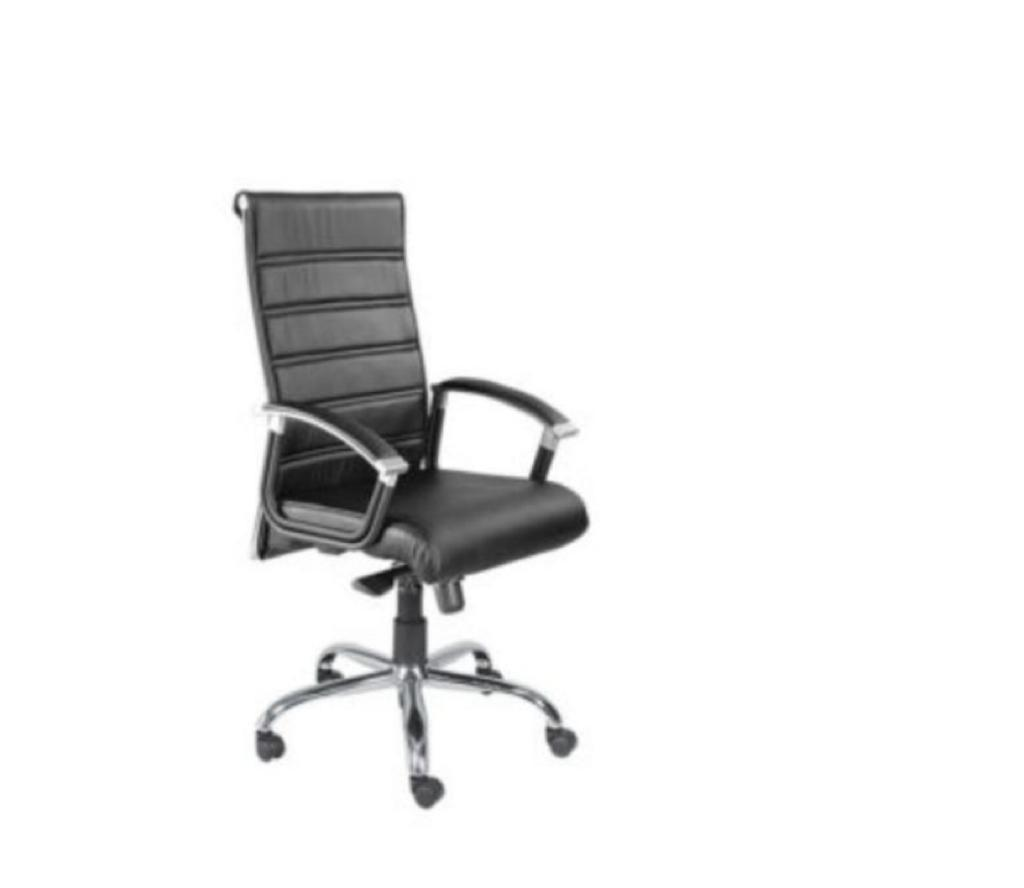chair: (218, 174, 598, 814)
